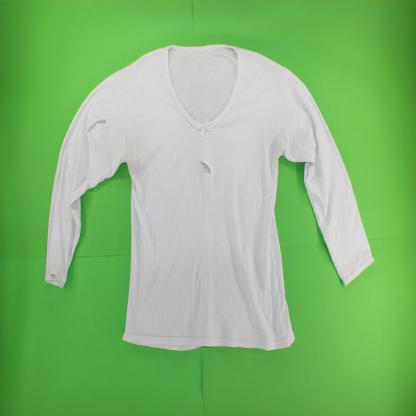hole: (86, 117, 112, 134), (199, 159, 213, 175)
